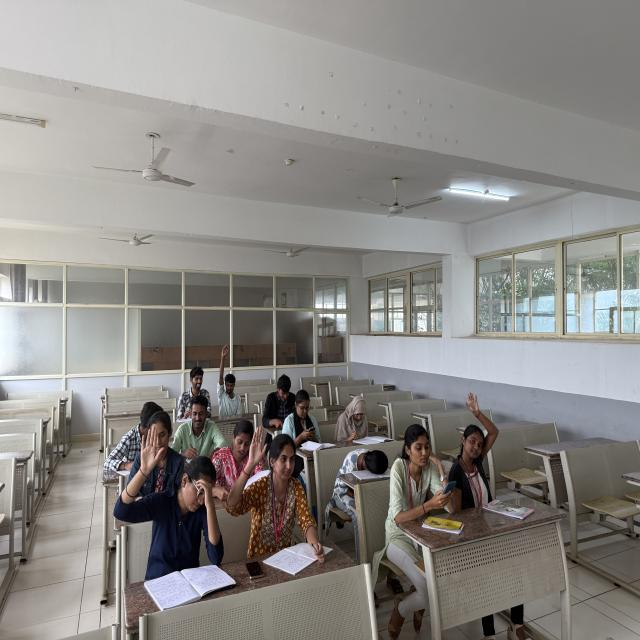Hand Rising: (113, 420, 226, 552), (229, 422, 319, 549), (451, 385, 498, 500), (213, 338, 244, 416)
Reading: (264, 374, 298, 430)
Sleeping: (328, 446, 394, 500)
Using Phone: (384, 419, 462, 548), (281, 388, 324, 446)
Writing: (171, 395, 226, 465), (331, 397, 386, 447)
